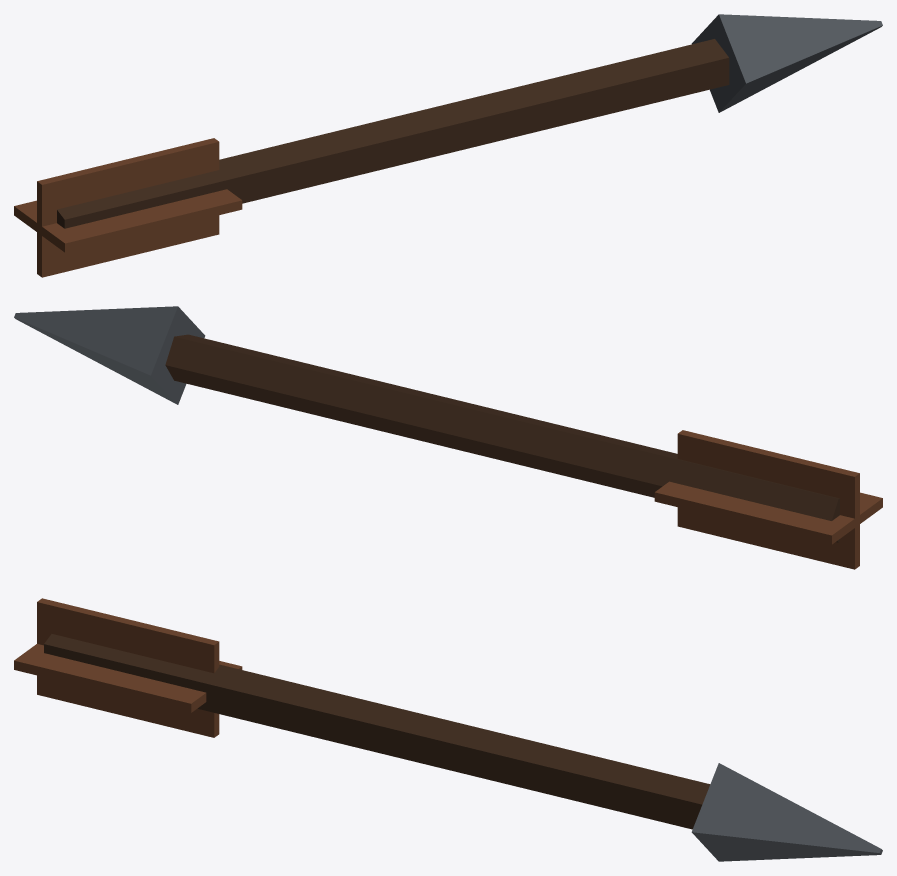
Rendered from bolt.glb.
3 renders of one model, top to bottom at view 1: azimuth 30°, elevation 25°; view 2: azimuth 150°, elevation 25°; view 3: azimuth 330°, elevation 25°, orthographic.
Visible parts, largest first — view 1: Bolt; view 2: Bolt; view 3: Bolt.
Boxes of the visible parts, box(x1,y1,x2,y2) form: Bolt: box(14, 14, 882, 277); Bolt: box(14, 306, 882, 569); Bolt: box(14, 598, 882, 861).
Size of the model in its own units: 0.57 by 0.064 by 0.064.
